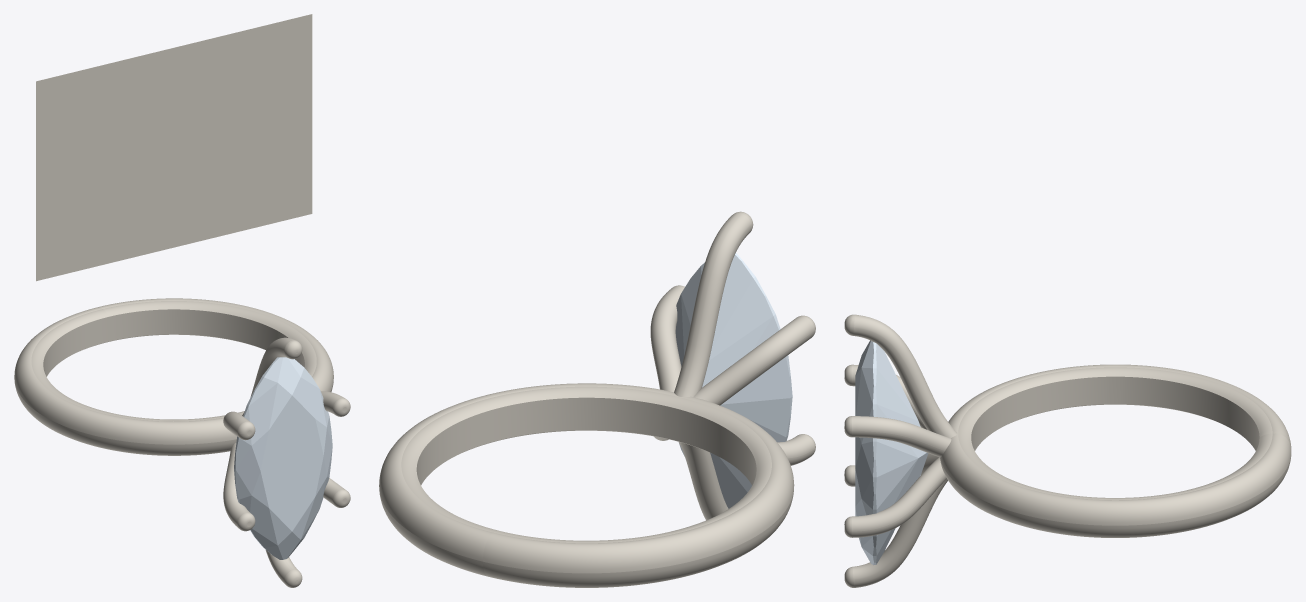
The model's file is PDR-2413.glb.
3 views of the same model, side by side, from view 1: azimuth 30°, elevation 25°; view 2: azimuth 150°, elevation 25°; view 3: azimuth 270°, elevation 25° (orthographic). The views are drawn at different scales.
Parts seen in each view (by area): view 1: User Layer 04, Metal 1 (×8), Gem 1; view 2: Metal 1 (×7), Gem 1; view 3: Metal 1 (×6), Gem 1.
Boxes of the visible parts, x1,y1,x2,y2 form: User Layer 04: (36,14,312,281); Metal 1 (×8): (14,298,350,587); Gem 1: (234,357,332,559); Metal 1 (×7): (379,211,815,587); Gem 1: (675,253,792,508); Metal 1 (×6): (844,314,1291,587); Gem 1: (855,340,928,565).
Bounding box in the file's own units: 0.896 × 1.4 × 1.14.
